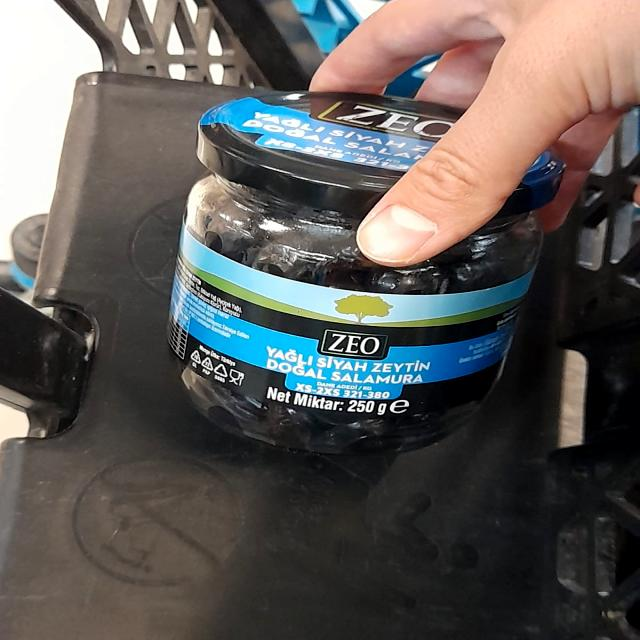olive: (133, 94, 591, 467)
